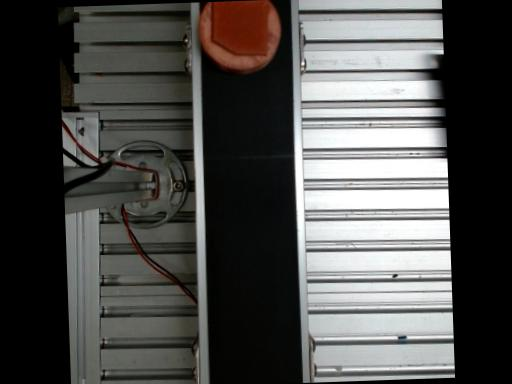Brown_Waper: (199, 0, 281, 72)
Not_Square: (210, 0, 267, 55)
